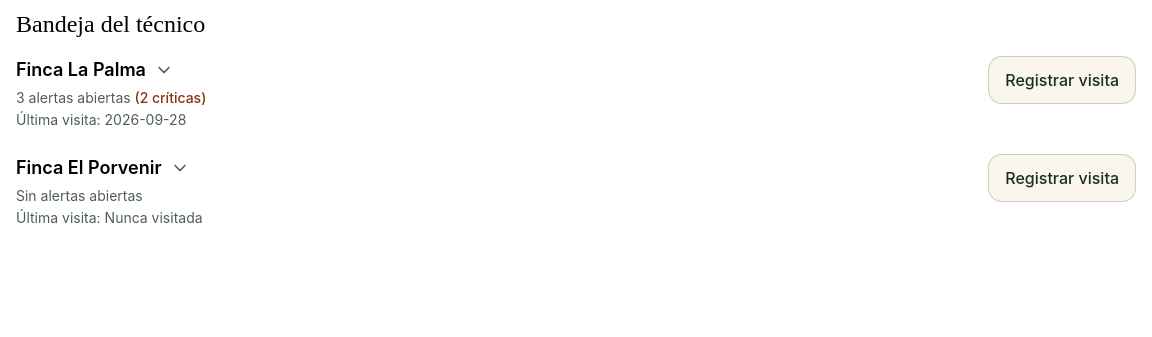
TrayScreen › shows the blocking plots error and its retry when the first load fails (no data at all)
The width and height of the screenshot is (1152, 337).
Expected: the heading "Finca La Palma" is shown, [16,56,146,84]
Click the button "Finca La Palma": coordinates (81, 70) [16,56,976,130]
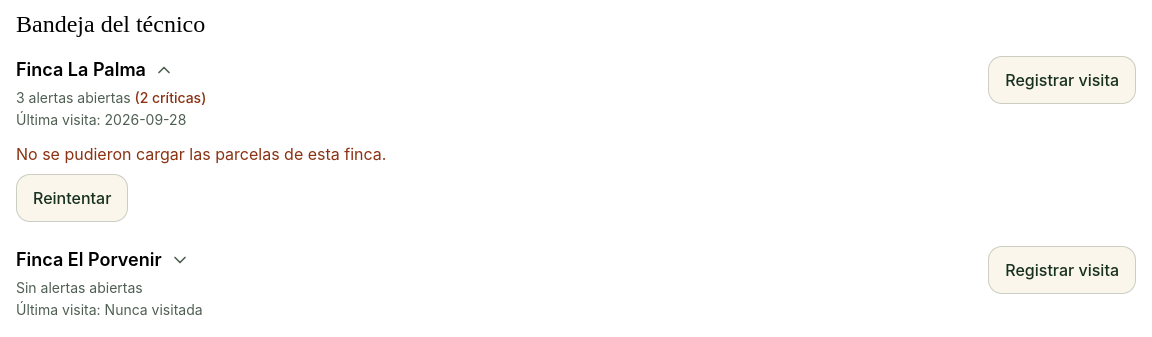
Expected: the element "Finca El Porvenir" is shown, [16,246,1136,320]
Expected: the text "No se pudieron cargar las parcelas de esta finca." is shown, [16,142,386,166]
Expected: the button "Reintentar" is shown, [16,174,128,222]
